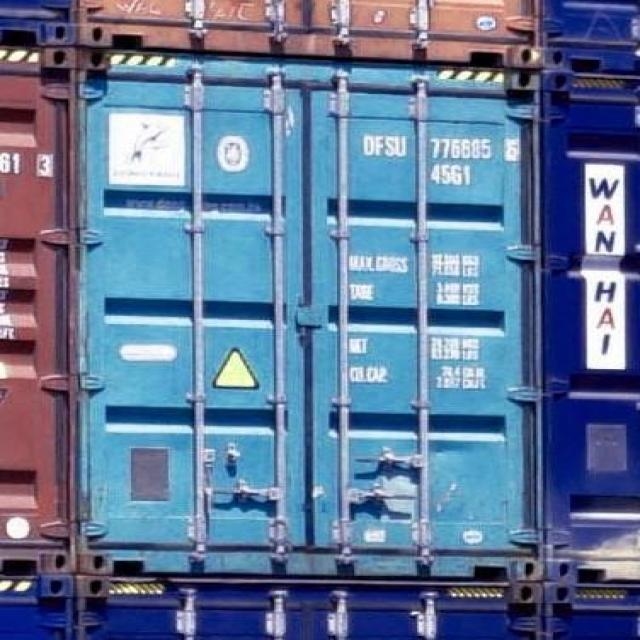ISO: (432, 164, 473, 186)
container_number: (364, 139, 514, 162)
